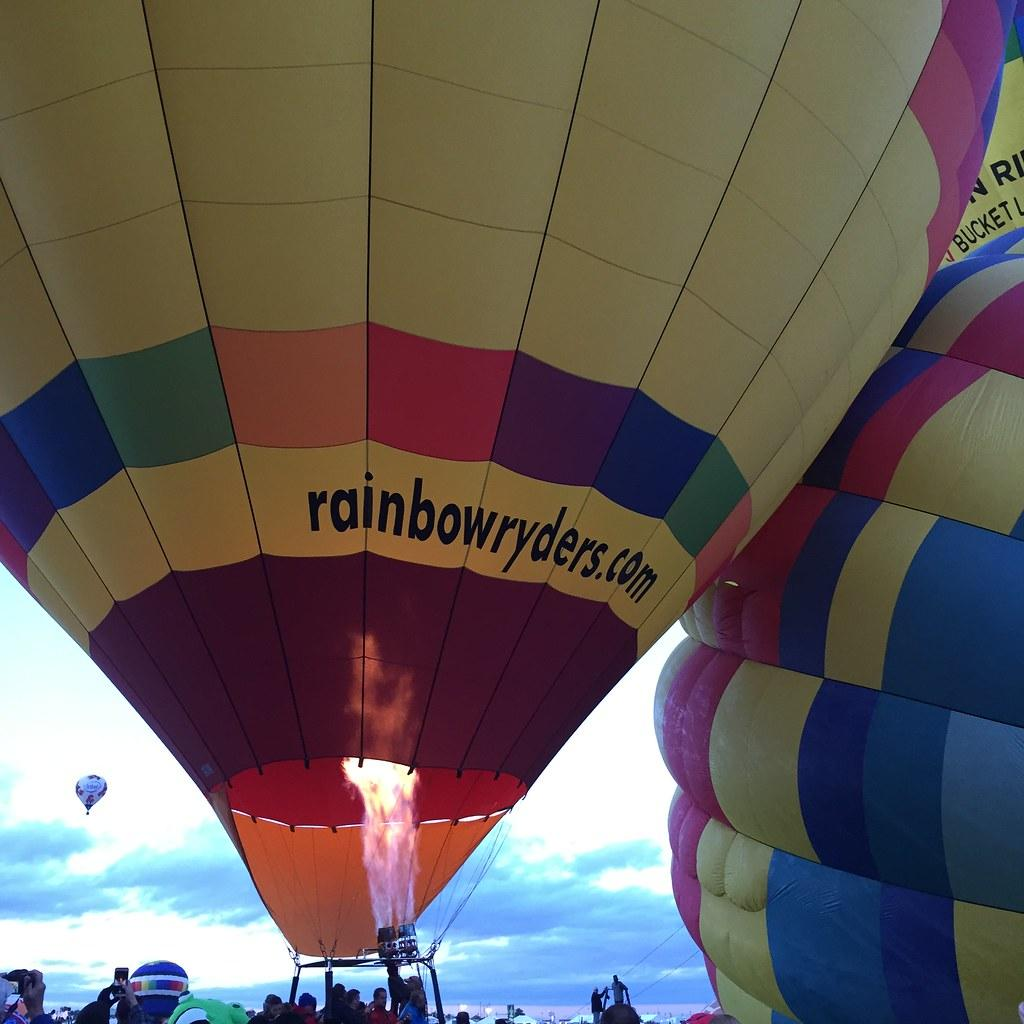balloon: (1, 1, 1018, 1010)
